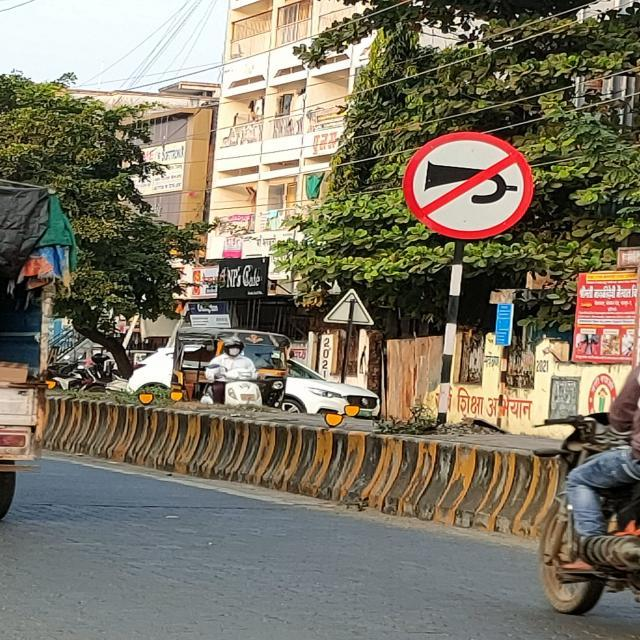horn prohibited: (403, 132, 533, 240)
